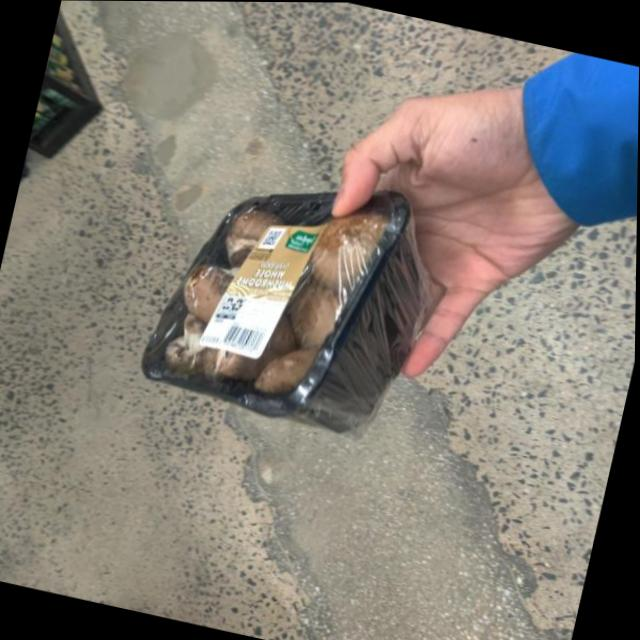Mushrooms: (132, 137, 450, 454)
